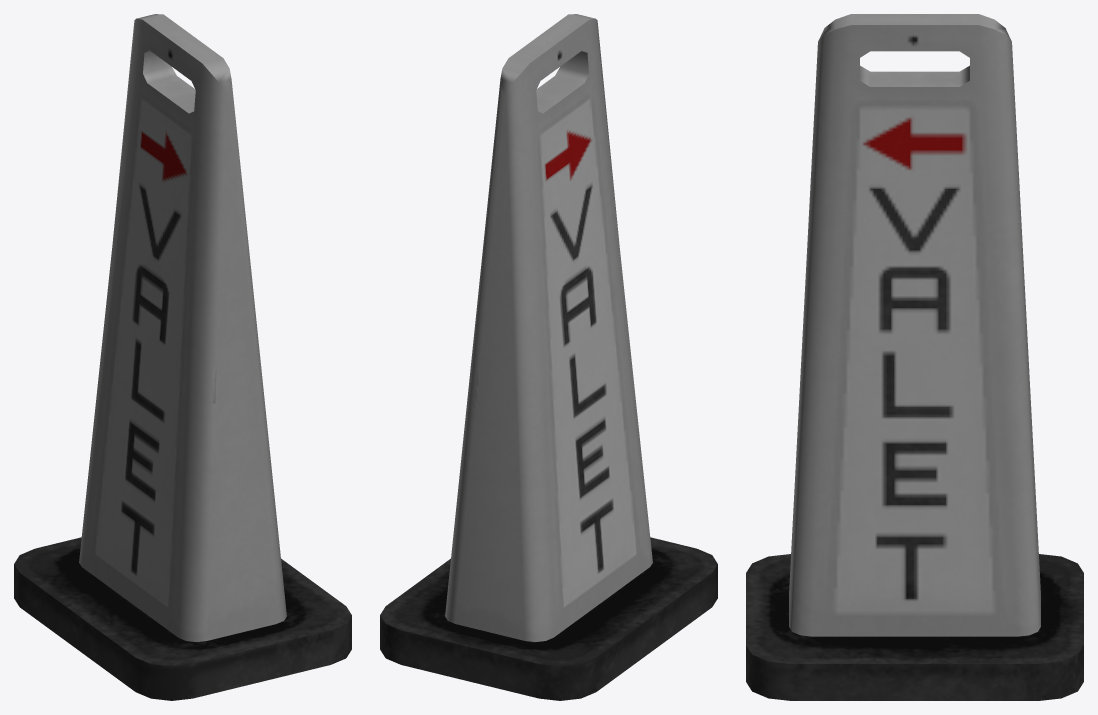
The model's file is MB_Valet_Parking.fbx.
3 views of the same model, side by side, from view 1: azimuth 30°, elevation 25°; view 2: azimuth 150°, elevation 25°; view 3: azimuth 270°, elevation 25° (orthographic). The views are drawn at different scales.
Visible parts, largest first — view 1: MB_Valet_Parking_LOD0; view 2: MB_Valet_Parking_LOD0; view 3: MB_Valet_Parking_LOD0.
Part boxes in pixels (bbox=[...]): MB_Valet_Parking_LOD0: bbox=[14, 14, 351, 700]; MB_Valet_Parking_LOD0: bbox=[380, 14, 717, 700]; MB_Valet_Parking_LOD0: bbox=[746, 14, 1083, 700].
Size of what is drawn, in the model's own units: 27.86 by 73.93 by 36.13.
